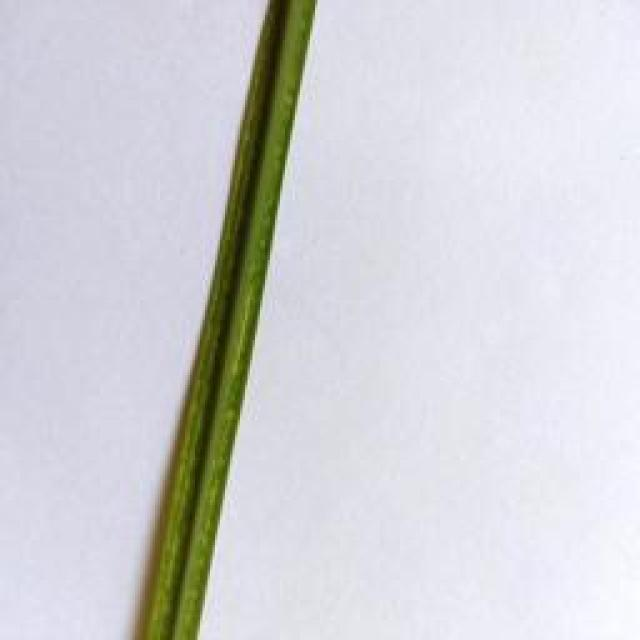Healthy-Plant: (145, 0, 324, 640)
